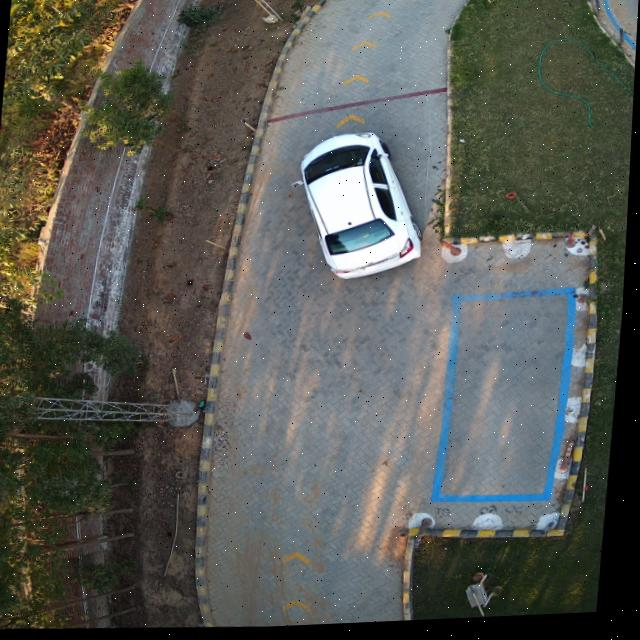car: (302, 134, 424, 281)
